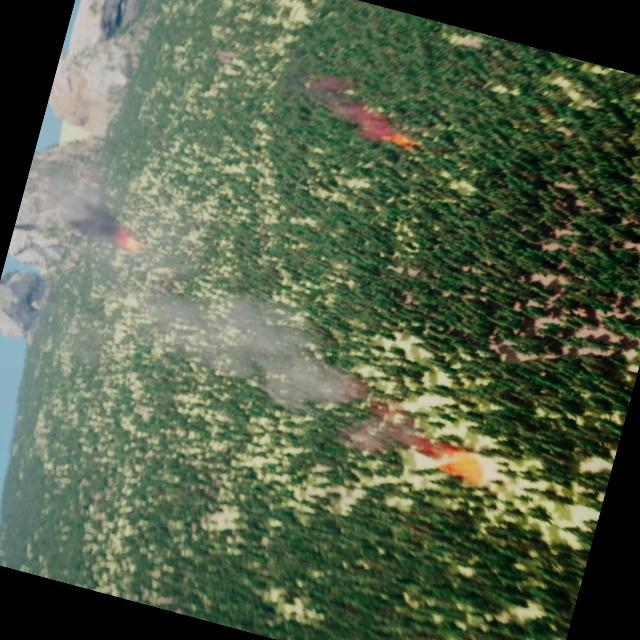fire: (438, 440, 486, 486), (380, 130, 418, 150), (115, 230, 143, 254)
smoke: (105, 268, 458, 464), (298, 68, 395, 142), (45, 189, 124, 245)
